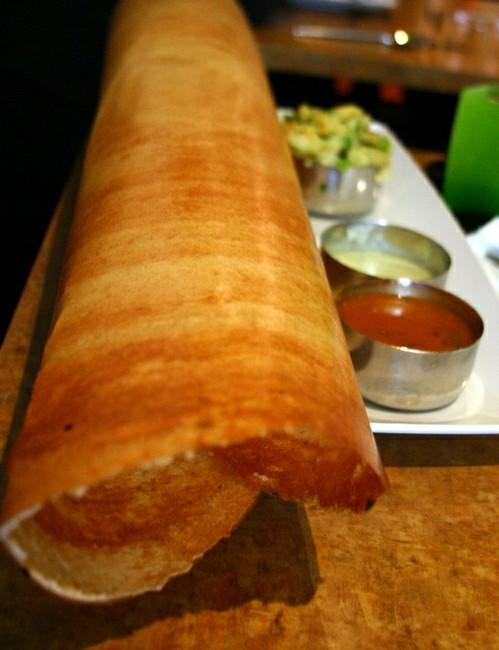Dosa: (0, 0, 388, 602)
